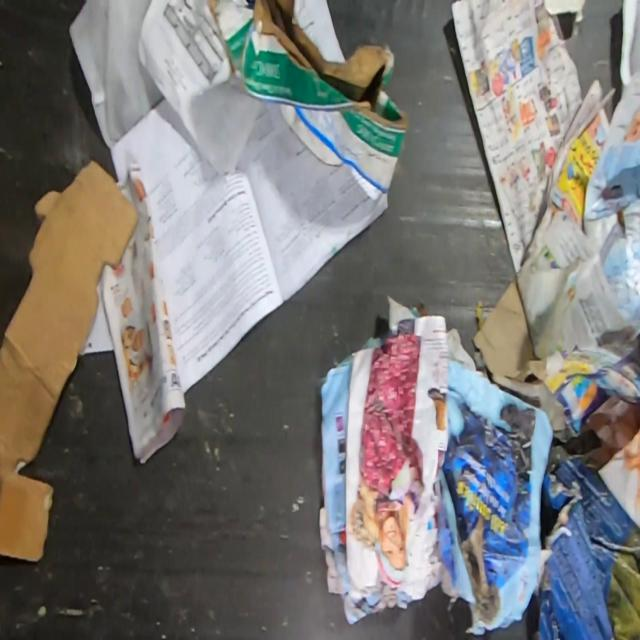cardboard: (0, 156, 142, 472), (206, 0, 408, 210), (532, 445, 640, 639), (471, 275, 548, 386), (0, 469, 57, 566)
